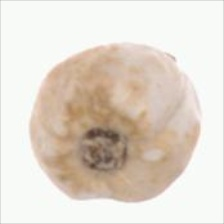L4: (28, 43, 202, 204)
